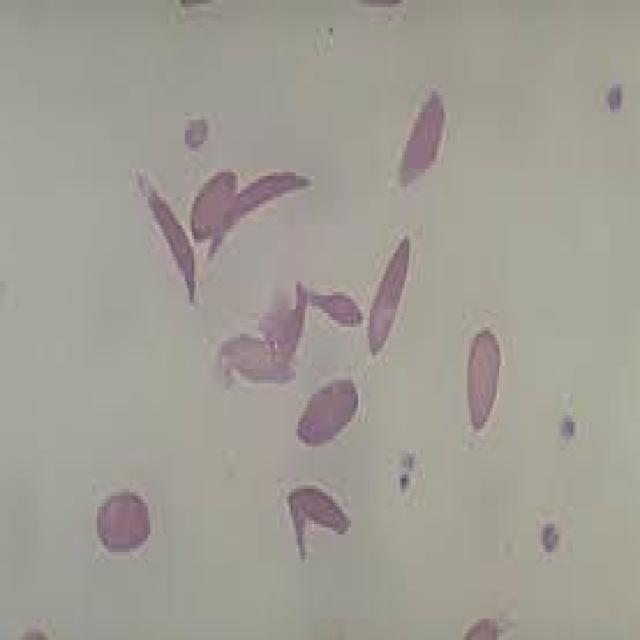sickle cell: (127, 165, 201, 327), (208, 169, 316, 264), (358, 222, 421, 366), (287, 478, 358, 570)
